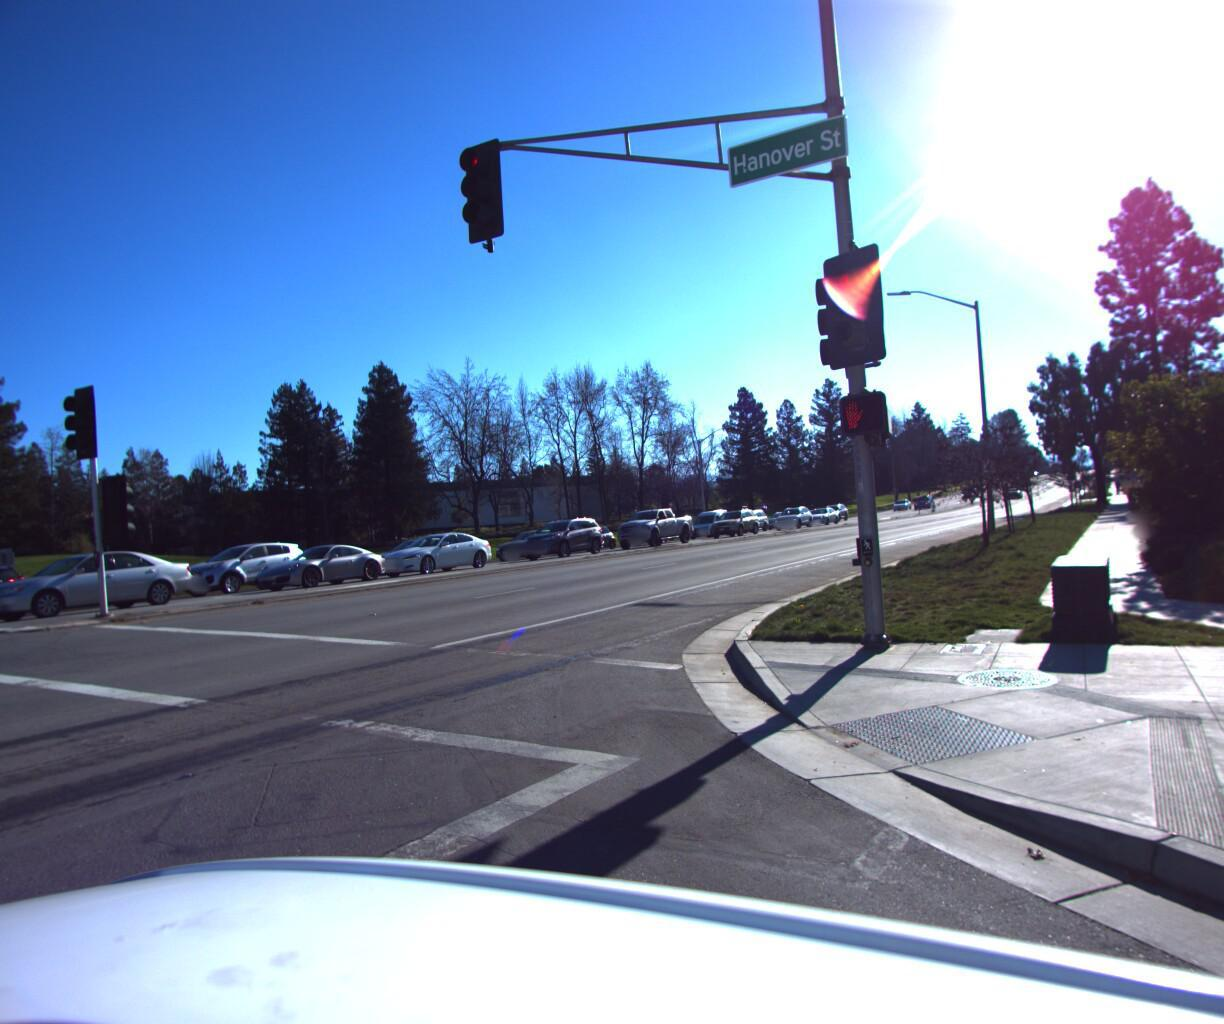car: (0, 540, 202, 620), (165, 533, 318, 594), (237, 533, 393, 588), (367, 522, 503, 573), (510, 508, 608, 556), (607, 503, 697, 545), (0, 551, 41, 633), (485, 523, 571, 556), (703, 499, 761, 533), (681, 502, 733, 532), (770, 500, 812, 525), (798, 498, 838, 520)
